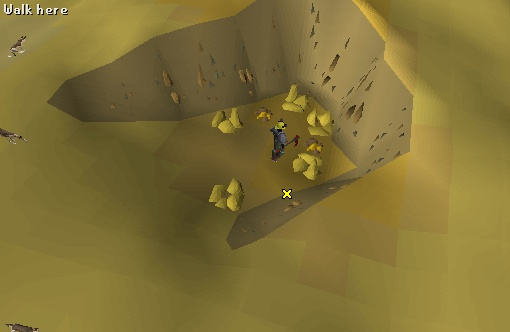gold: (205, 172, 253, 217), (286, 146, 328, 184), (208, 104, 248, 137)
